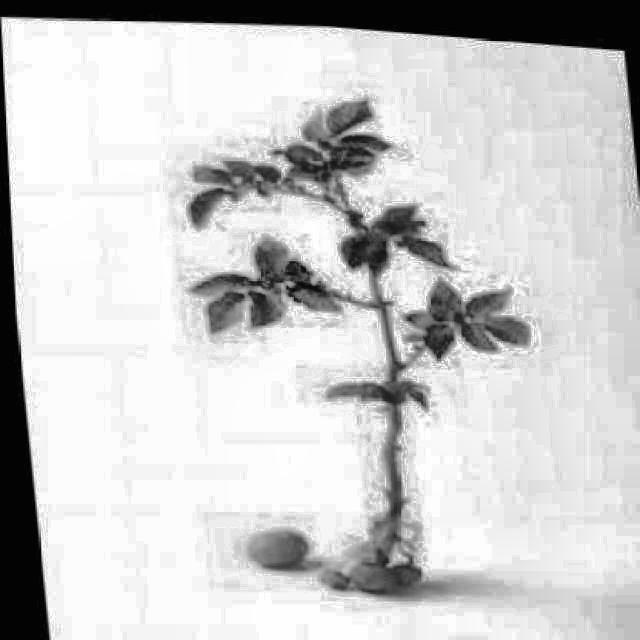plants: (152, 62, 570, 616)
